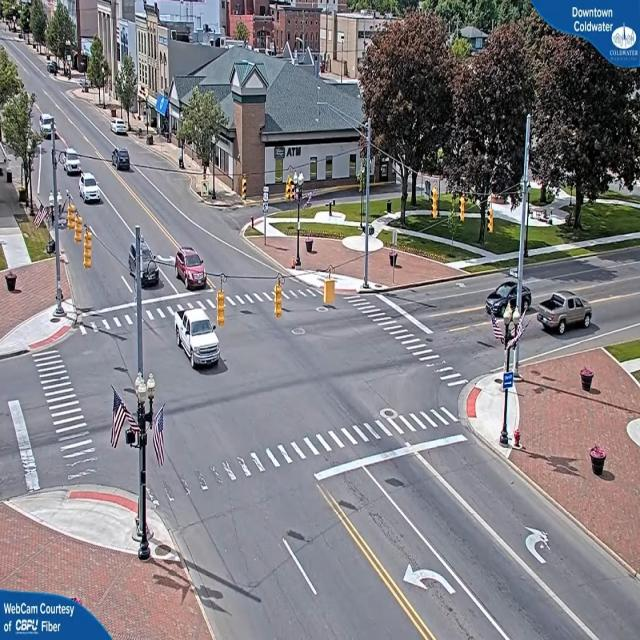car: (177, 308, 222, 368), (538, 291, 594, 336), (483, 282, 532, 315), (174, 246, 208, 290), (128, 241, 160, 284), (81, 174, 101, 204), (114, 148, 132, 171), (63, 153, 81, 175), (111, 120, 129, 136)
